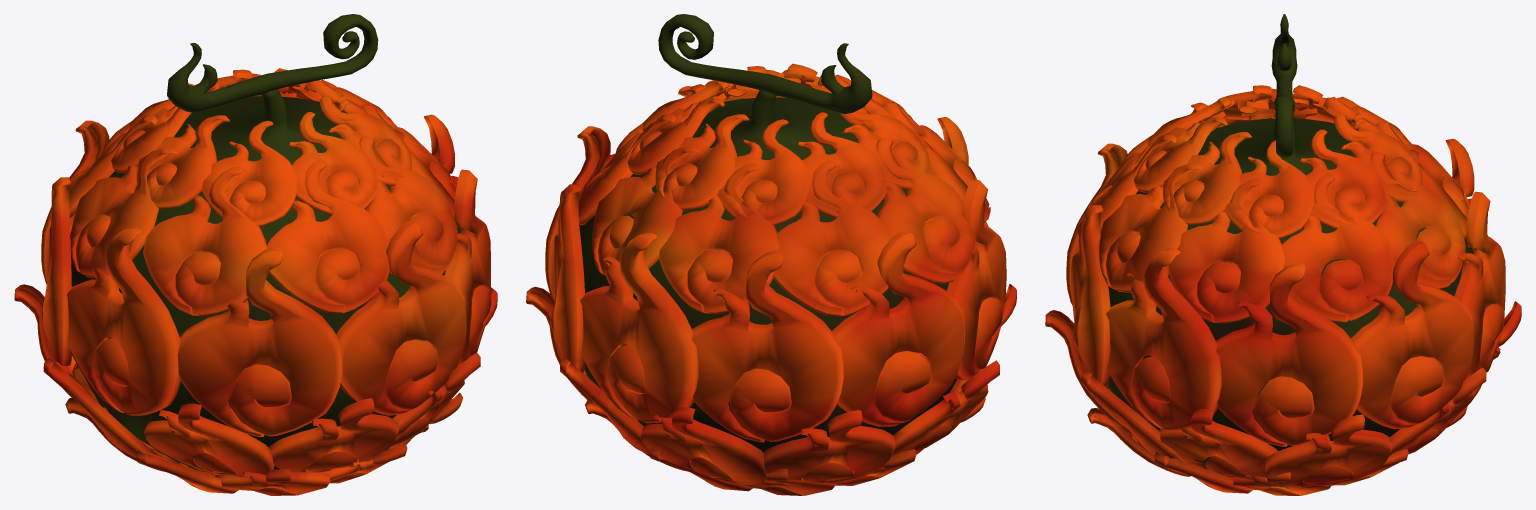
Rendered from Mera Mera No Mi.fbx.
3 renders of one model, left to right at view 1: azimuth 30°, elevation 25°; view 2: azimuth 150°, elevation 25°; view 3: azimuth 270°, elevation 25°, orthographic. The views are drawn at different scales.
Parts seen in each view (by area): view 1: Mera Mera no mi; view 2: Mera Mera no mi; view 3: Mera Mera no mi.
Part boxes in pixels (x1=…): Mera Mera no mi: x1=14, y1=14, x2=497, y2=495; Mera Mera no mi: x1=526, y1=14, x2=1016, y2=495; Mera Mera no mi: x1=1045, y1=14, x2=1521, y2=495.
Size of the model in its own units: 531 by 507 by 531.
